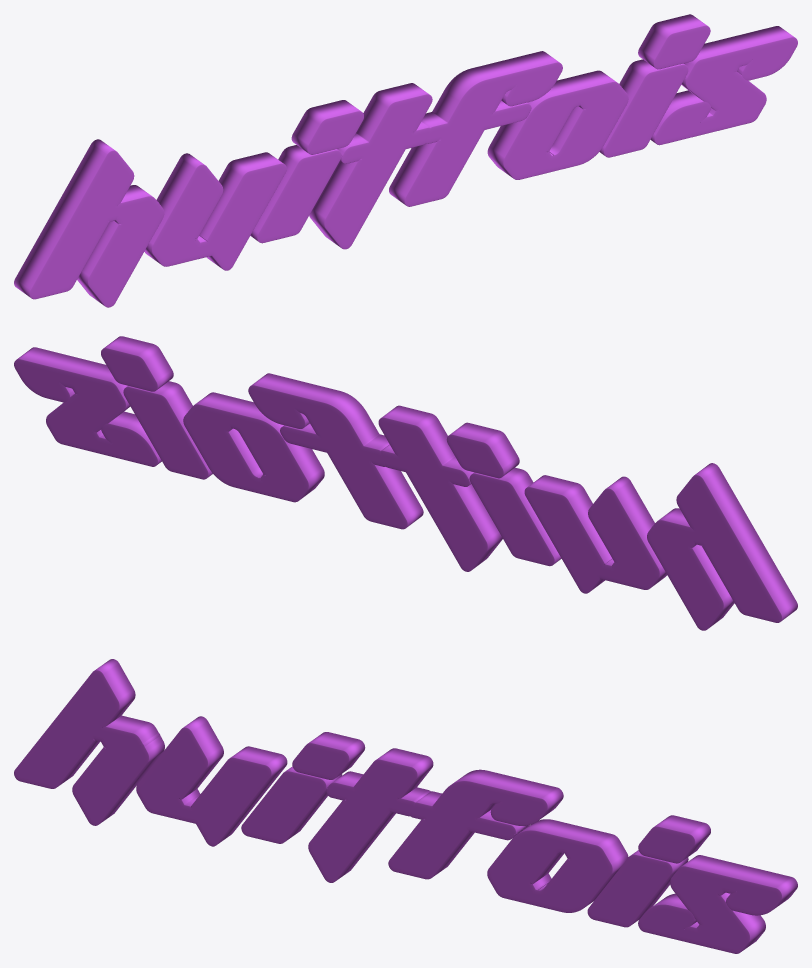
File: huitfois2.glb
3 renders of one model, top to bottom at view 1: azimuth 30°, elevation 25°; view 2: azimuth 150°, elevation 25°; view 3: azimuth 330°, elevation 25°, orthographic.
Visible parts, largest first — view 1: Curve; view 2: Curve; view 3: Curve.
Boxes of the visible parts, <box> form: Curve: <box>14,14,797,307</box>; Curve: <box>14,336,797,630</box>; Curve: <box>14,659,797,953</box>.
Size of the model in its own units: 9.03 by 1.75 by 0.3638.
